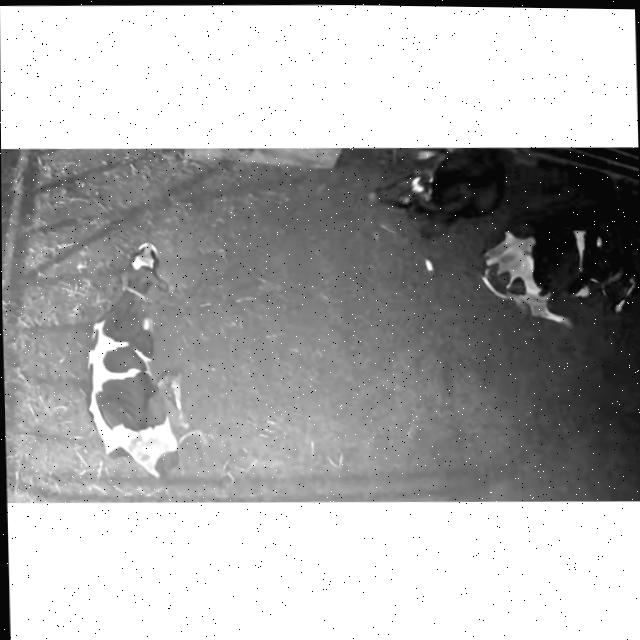lay: (68, 229, 234, 487), (478, 208, 640, 348), (348, 145, 510, 232)
